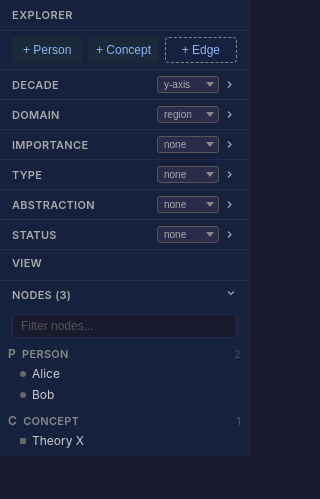
sidebar color dots › shows color dots for any classifier with colors (AC-071-04)
The width and height of the screenshot is (320, 499).
Note: Expand the domain section (which has colors)
Click the text "Domain" at x=36, y=114, box [12, 108, 60, 122]
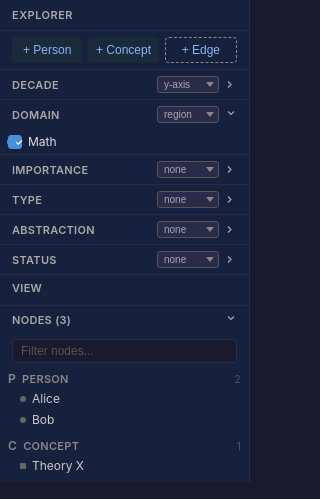
Expected: the element with class "sidebar-stream-dot" is shown, [7, 138, 15, 146]
